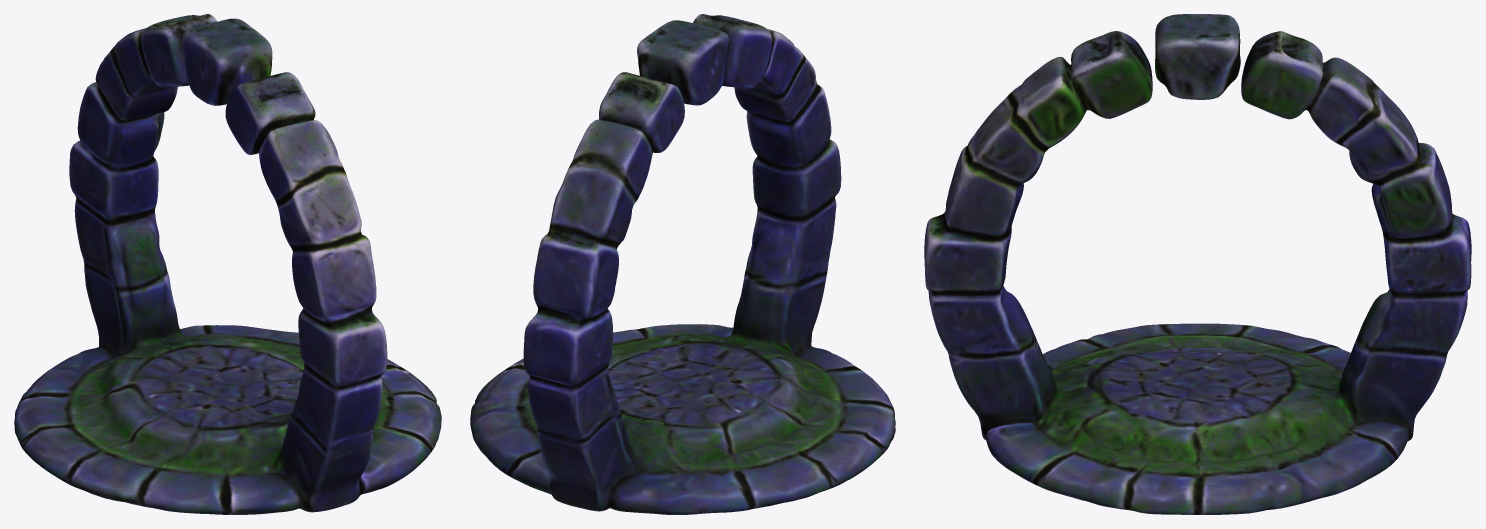
The model's file is portal.glb.
The picture shows the model from 3 angles, left to right: view 1: azimuth 30°, elevation 25°; view 2: azimuth 150°, elevation 25°; view 3: azimuth 270°, elevation 25°; orthographic projection.
Parts seen in each view (by area): view 1: high_poly; view 2: high_poly; view 3: high_poly.
Boxes of the visible parts, x1,y1,x2,y2 form: high_poly: [14, 14, 441, 514]; high_poly: [470, 14, 895, 514]; high_poly: [924, 14, 1471, 514].
Size of the model in its own units: 0.7944 by 0.8199 by 1.
1 material, 1 textured.
